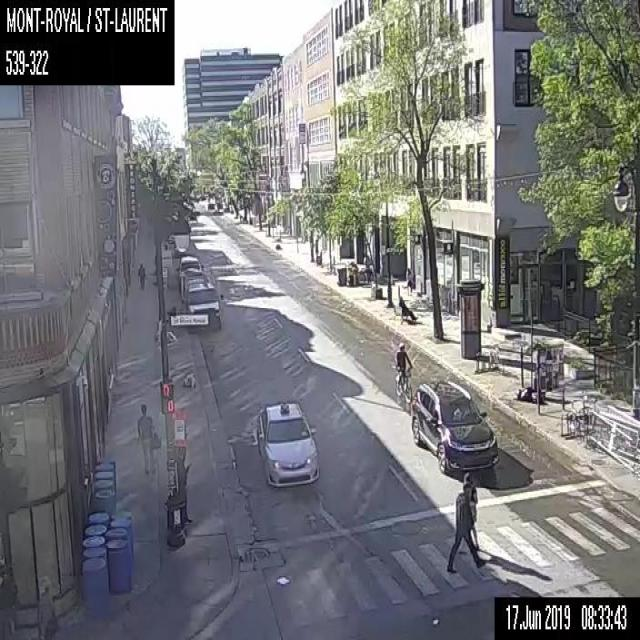cyclist: (393, 340, 412, 402)
pedestrian: (446, 482, 486, 574), (136, 400, 156, 473), (462, 472, 480, 549), (398, 295, 416, 320), (136, 260, 146, 288), (404, 265, 412, 295)
vehicle: (411, 379, 498, 472), (253, 397, 321, 487), (184, 275, 223, 331), (176, 254, 203, 294), (174, 235, 188, 257)
